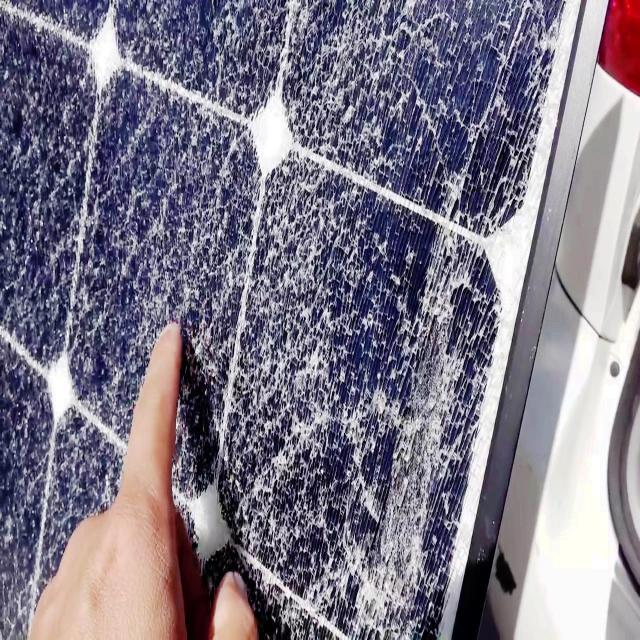faulty: (2, 7, 574, 640)
